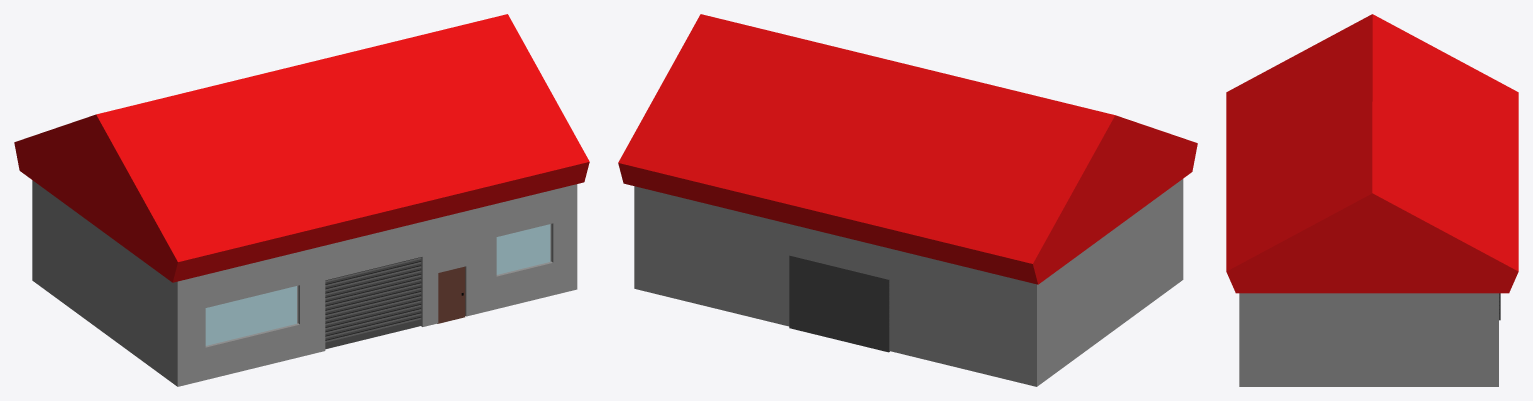
The model's file is Desguace Edificio.fbx.
3 renders of one model, left to right at view 1: azimuth 30°, elevation 25°; view 2: azimuth 150°, elevation 25°; view 3: azimuth 270°, elevation 25°, orthographic. The views are drawn at different scales.
Parts seen in each view (by area): view 1: Cylinder, Cube, Cube.006, Cube.003, Cube.004, Cube.002; view 2: Cylinder, Cube, Cube.005; view 3: Cylinder, Cube.
Part boxes in pixels (box(x1,y1,x2,y2)): Cylinder: box(14, 14, 589, 282); Cube: box(32, 180, 577, 386); Cube.006: box(325, 257, 421, 349); Cube.003: box(205, 286, 296, 345); Cube.004: box(496, 224, 550, 274); Cube.002: box(437, 266, 465, 323); Cylinder: box(618, 14, 1197, 284); Cube: box(634, 179, 1183, 386); Cube.005: box(789, 255, 889, 352); Cylinder: box(1226, 14, 1518, 293); Cube: box(1239, 293, 1498, 386).
Size of the model in its own units: 1195 by 613 by 824.
